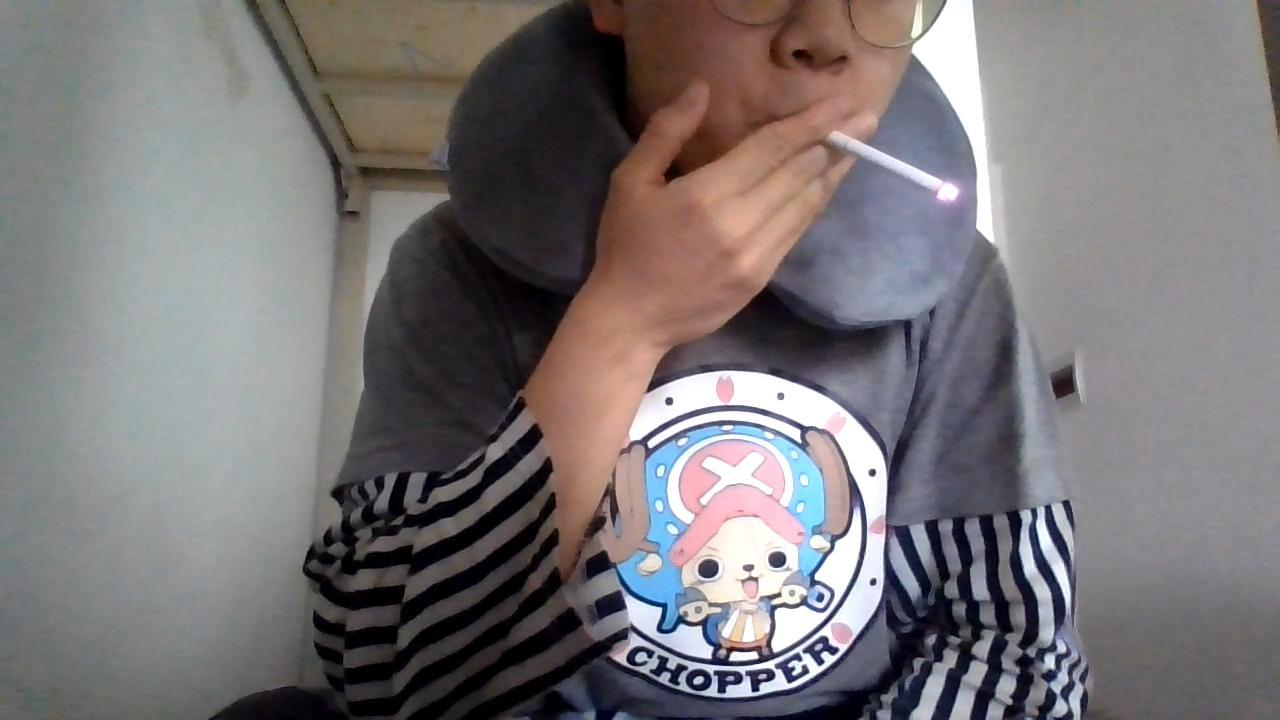Cigarette: (826, 126, 960, 204)
